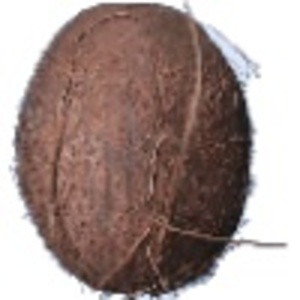coco: (13, 3, 274, 300)
